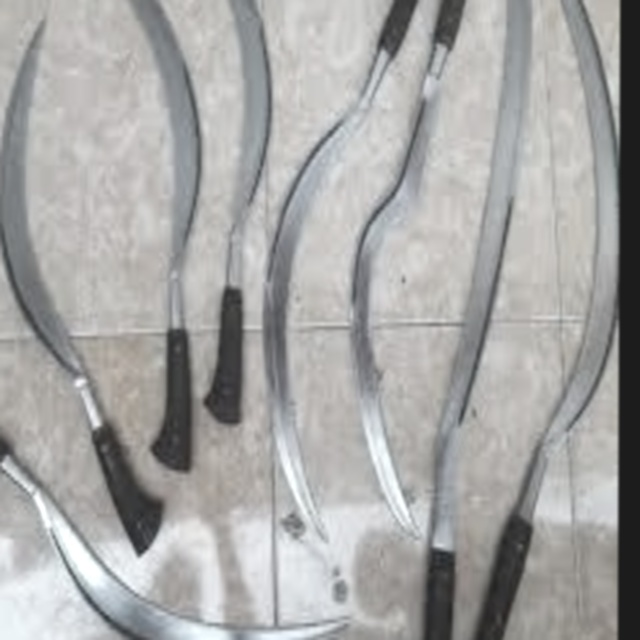Sharp-Object: (0, 370, 367, 640), (0, 0, 163, 560), (478, 0, 618, 640), (259, 0, 384, 559), (347, 0, 482, 516), (87, 0, 209, 483), (211, 0, 277, 459)
